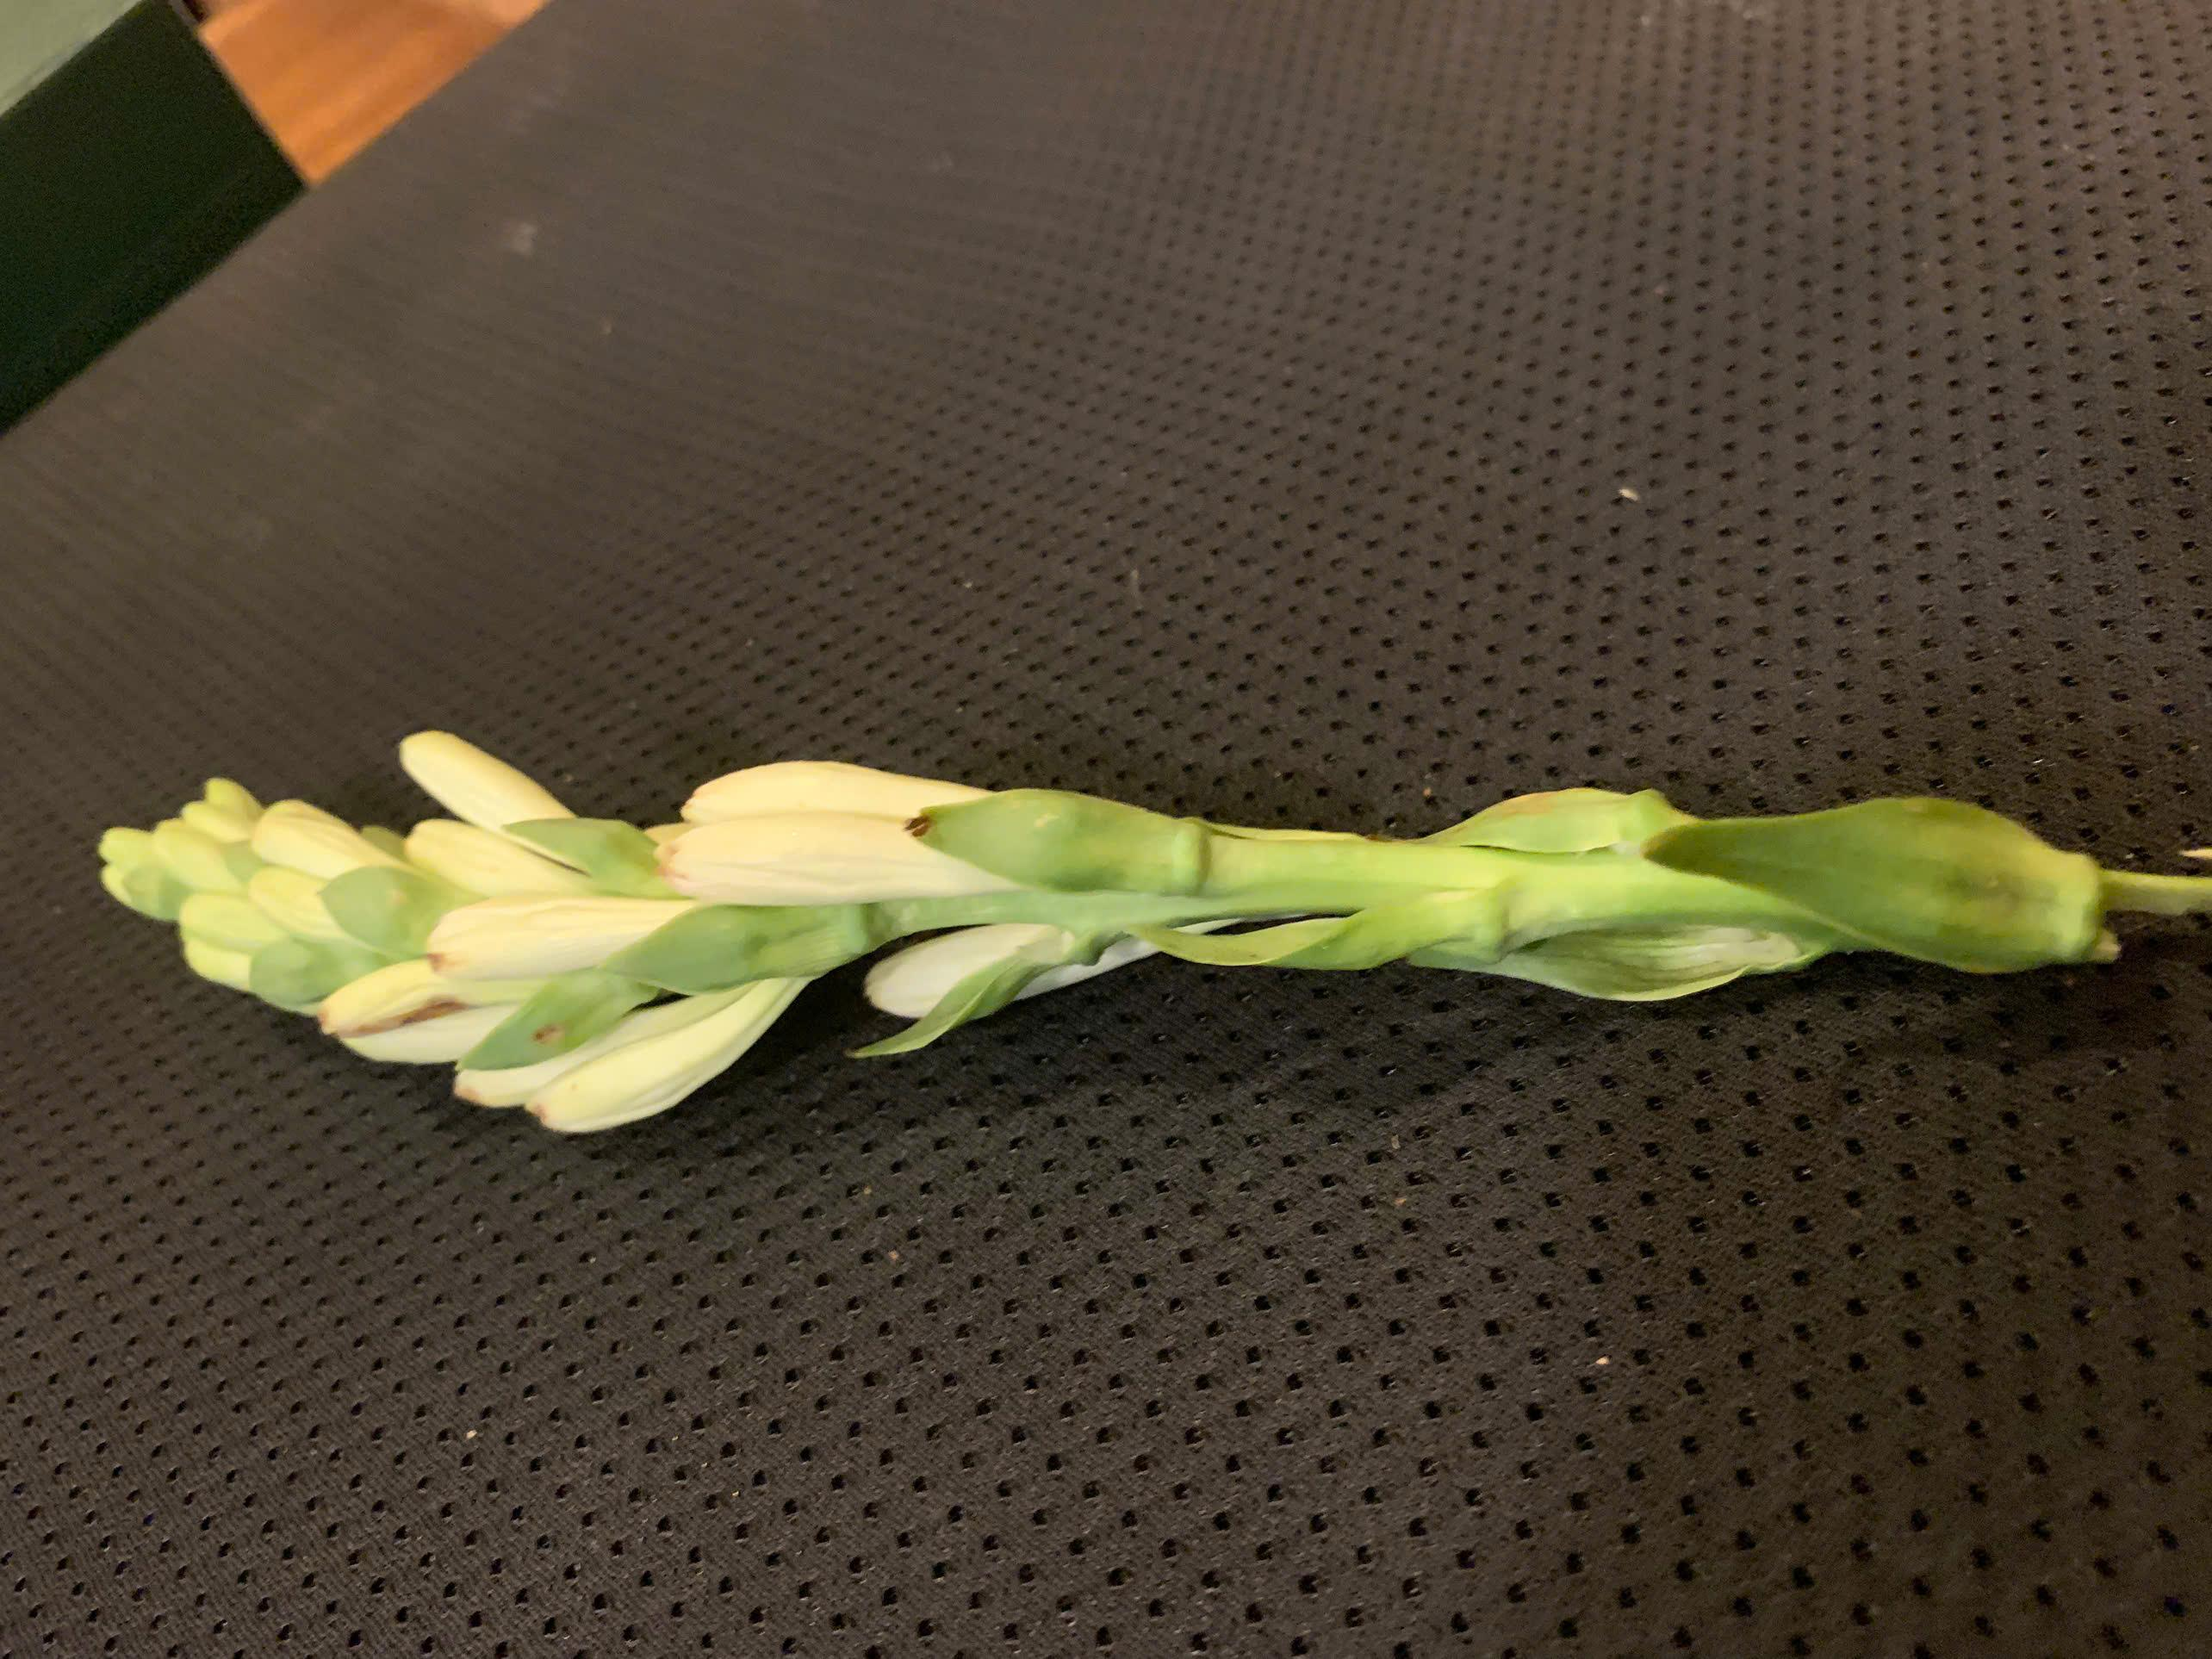Huu co: (94, 725, 2212, 1131)
